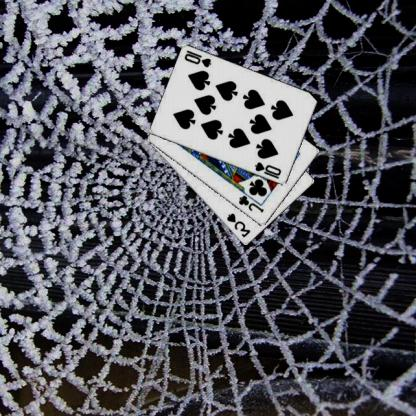10S: (184, 48, 214, 69), (254, 160, 284, 180)
3S: (226, 210, 254, 238)
JC: (238, 192, 267, 214)
